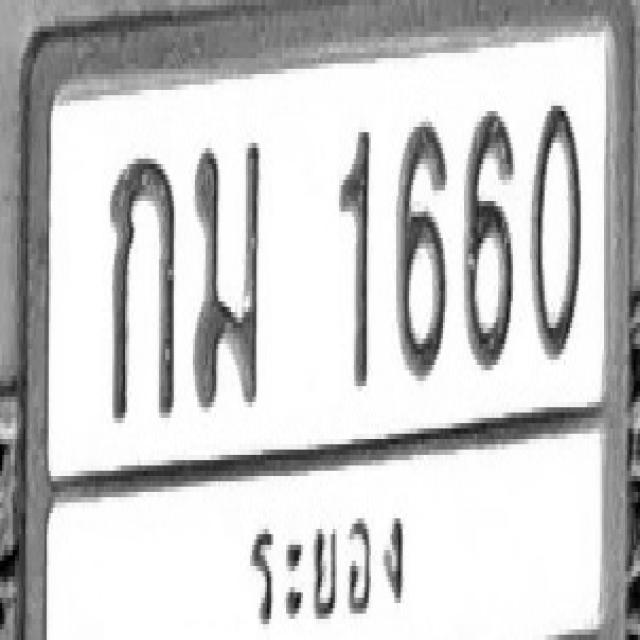0: (531, 98, 582, 357)
1: (337, 124, 371, 383)
10GorGai: (108, 150, 176, 420)
42MorMa: (193, 138, 261, 408)
6: (464, 106, 515, 365), (396, 117, 447, 376)
